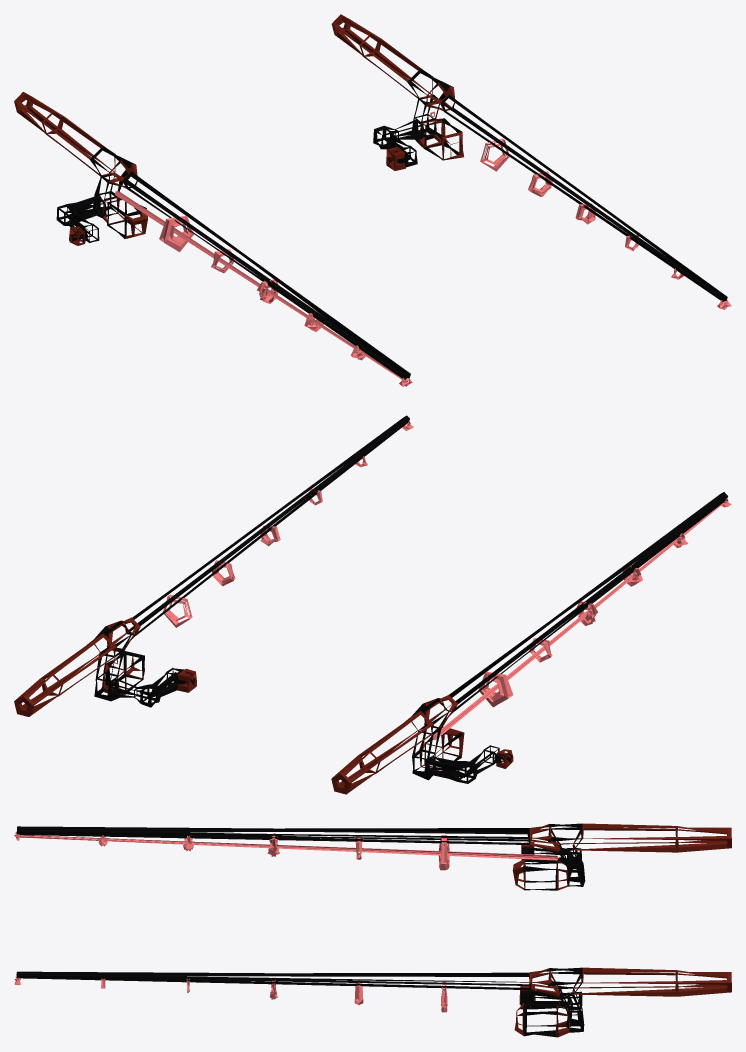
The model's file is CurseRod.fbx.
3 views of the same model, one above another, from view 1: azimuth 30°, elevation 25°; view 2: azimuth 150°, elevation 25°; view 3: azimuth 270°, elevation 25° (orthographic). The views are drawn at different scales.
Visible parts, largest first — view 1: CurseRod, CurseRod_Rod, CurseRod_Reel, CurseRod_Handle, Spinner; view 2: CurseRod, CurseRod_Rod, CurseRod_Reel, CurseRod_Handle, Spinner; view 3: CurseRod, CurseRod_Rod, CurseRod_Handle, CurseRod_Reel, Spinner.
Boxes of the visible parts, x1,y1,x2,y2 form: CurseRod: (14, 92, 412, 386); CurseRod_Rod: (441, 95, 731, 309); CurseRod_Reel: (373, 94, 463, 170); CurseRod_Handle: (331, 14, 454, 110); Spinner: (56, 195, 106, 245); CurseRod: (331, 492, 731, 794); CurseRod_Rod: (124, 415, 413, 635); CurseRod_Reel: (94, 647, 196, 707); CurseRod_Handle: (14, 617, 140, 716); Spinner: (424, 745, 513, 783); CurseRod: (14, 823, 731, 890); CurseRod_Rod: (14, 971, 531, 1012); CurseRod_Handle: (529, 967, 731, 996); CurseRod_Reel: (514, 986, 584, 1037); Spinner: (521, 842, 581, 878).
Bounding box in the file's own units: 2.49 × 0.4183 × 4.21.
